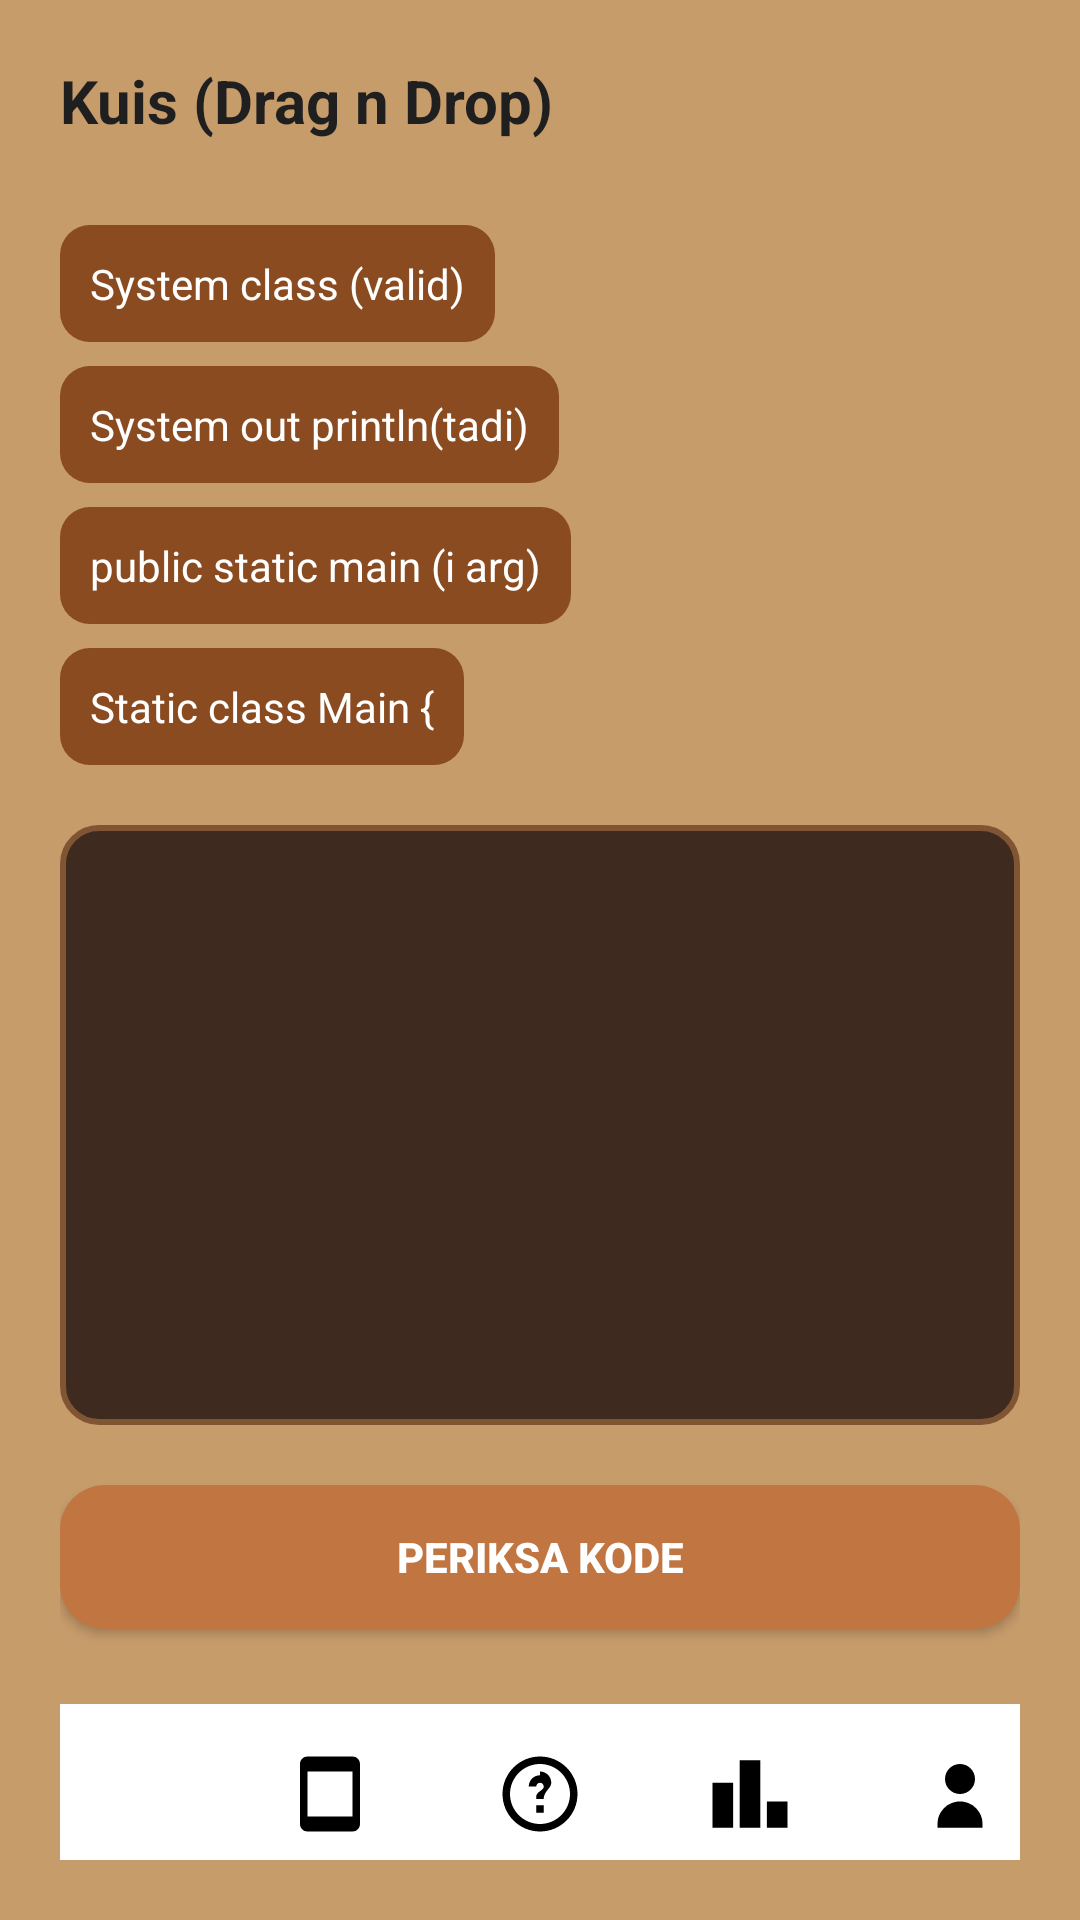

Named icons in this screenshot (1080 x 1920) and their centers, point (x, y):
leaderboard: point (750, 1794)
profile: point (960, 1796)
quiz: point (540, 1794)
